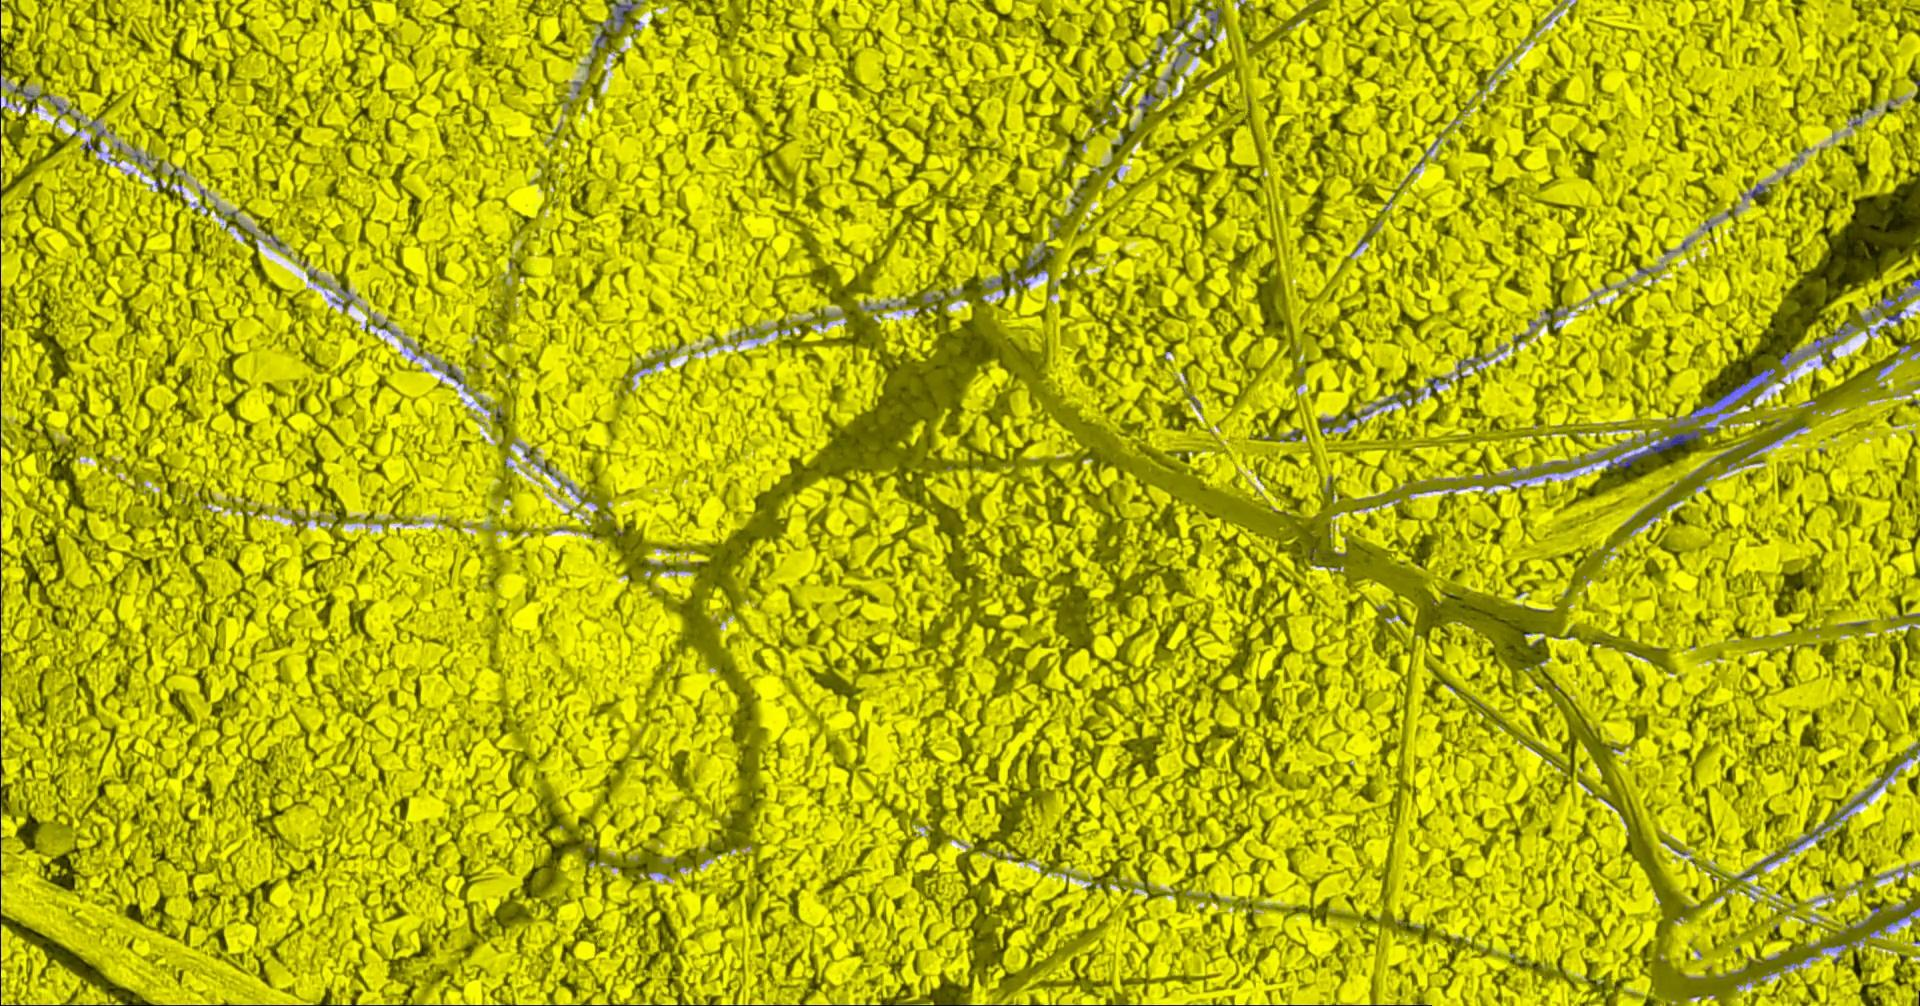ant: (1606, 431, 1698, 469), (1714, 367, 1773, 403), (610, 3, 631, 24)
